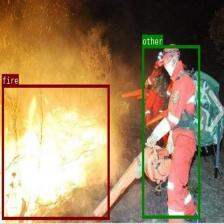fire: (2, 84, 110, 219)
